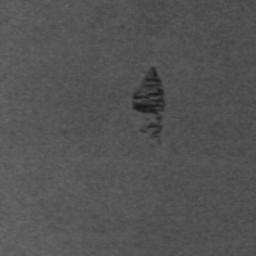Secondary rust skin: (130, 65, 167, 135)
